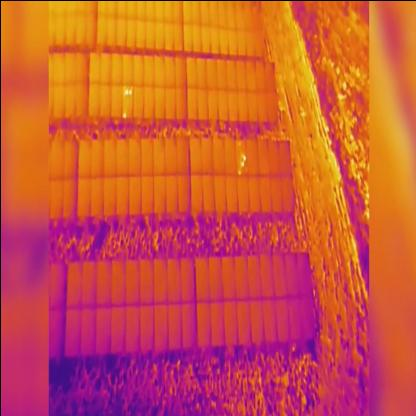panel: (141, 84, 157, 120), (120, 83, 135, 121), (98, 81, 113, 119), (152, 84, 167, 121), (97, 50, 113, 84), (131, 84, 146, 120), (162, 54, 178, 87), (152, 53, 167, 87), (163, 85, 177, 121), (110, 83, 124, 119), (132, 51, 146, 87), (87, 81, 100, 119), (110, 51, 124, 86), (87, 49, 101, 83), (175, 86, 188, 121), (143, 54, 156, 87), (121, 52, 134, 85), (174, 54, 187, 86)
